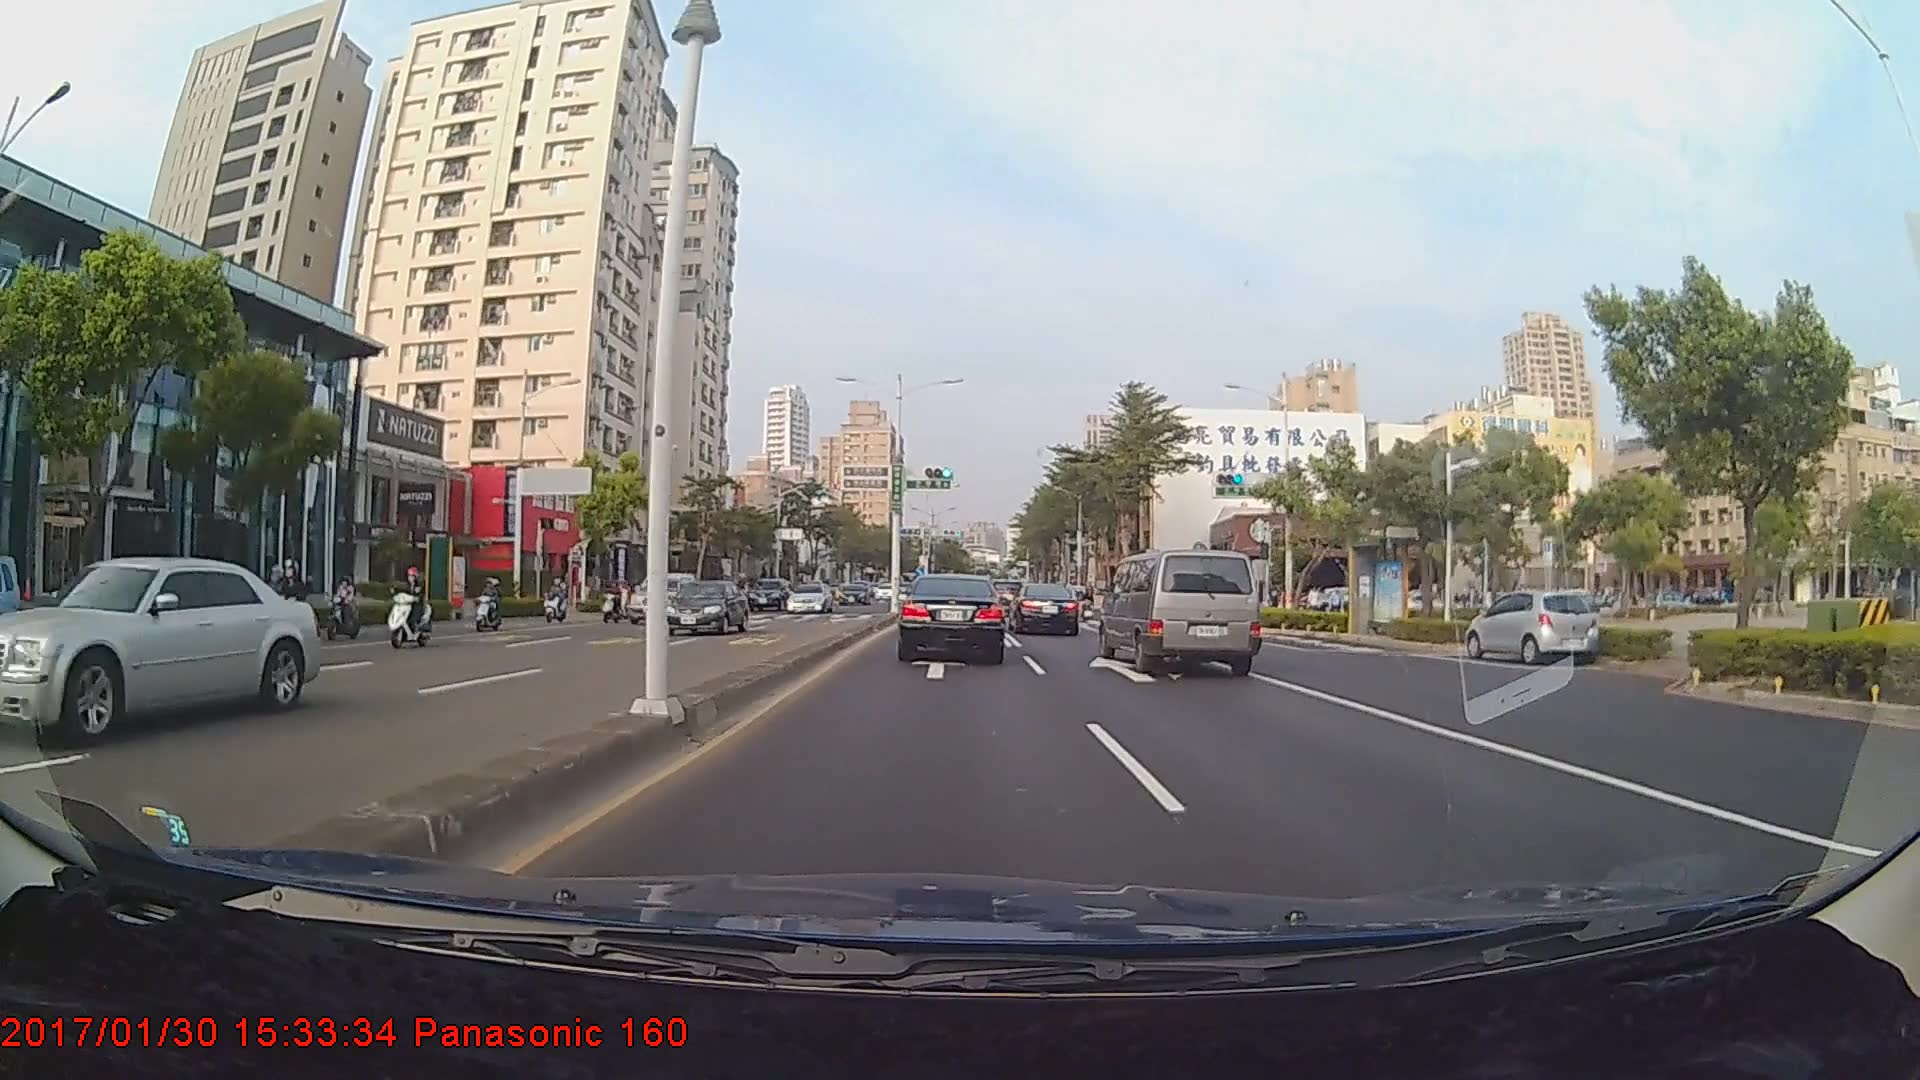rider: (266, 555, 320, 662), (382, 563, 441, 650), (321, 574, 365, 648), (473, 572, 506, 636)
vehicle: (0, 556, 323, 746), (1101, 544, 1263, 678), (1465, 588, 1598, 666), (897, 574, 1004, 663), (671, 579, 754, 636), (1006, 582, 1081, 637), (625, 570, 700, 624), (747, 575, 790, 612), (782, 583, 831, 614), (838, 580, 874, 606)
